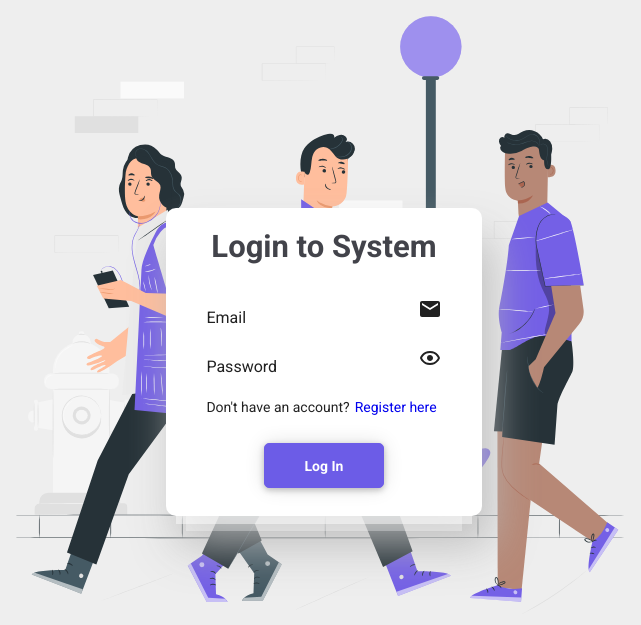
Test: SignIn › Should load with correct helper values
What coordinates should you click on to do the following:
click the button with test id "submit"
I would click on:
 (324, 466)
Its box is left=264, top=443, right=384, bottom=488.
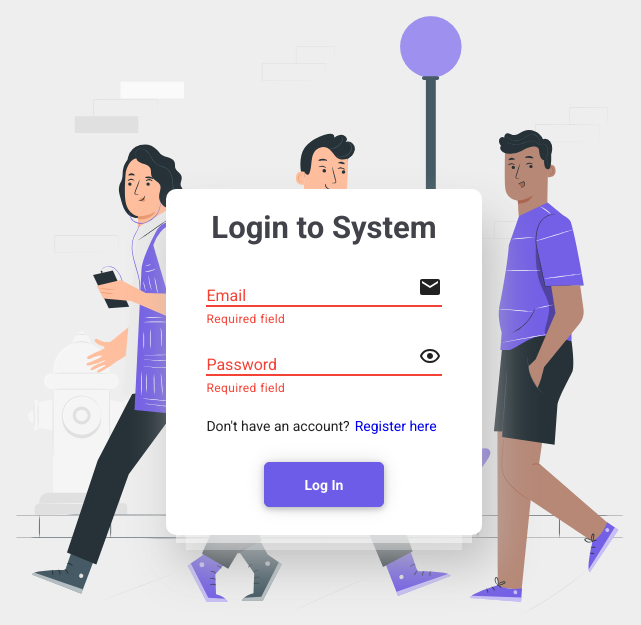
expect the text with test id "email-helper" is shown: met, box left=206, top=312, right=285, bottom=326
